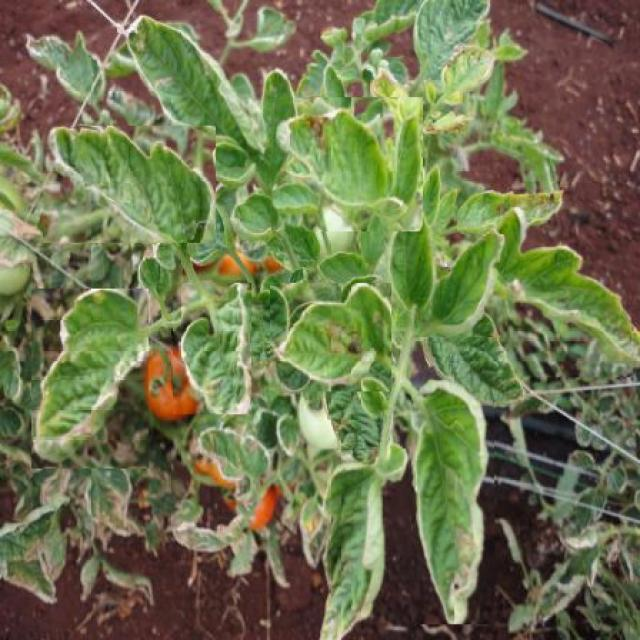Yellow Leaf Curl Virus: (120, 14, 299, 204), (489, 202, 632, 377), (294, 448, 414, 640), (32, 288, 148, 468), (412, 373, 494, 624), (271, 97, 423, 232), (43, 126, 216, 243), (270, 284, 391, 392), (173, 283, 251, 414), (419, 234, 507, 337), (386, 206, 457, 310)
